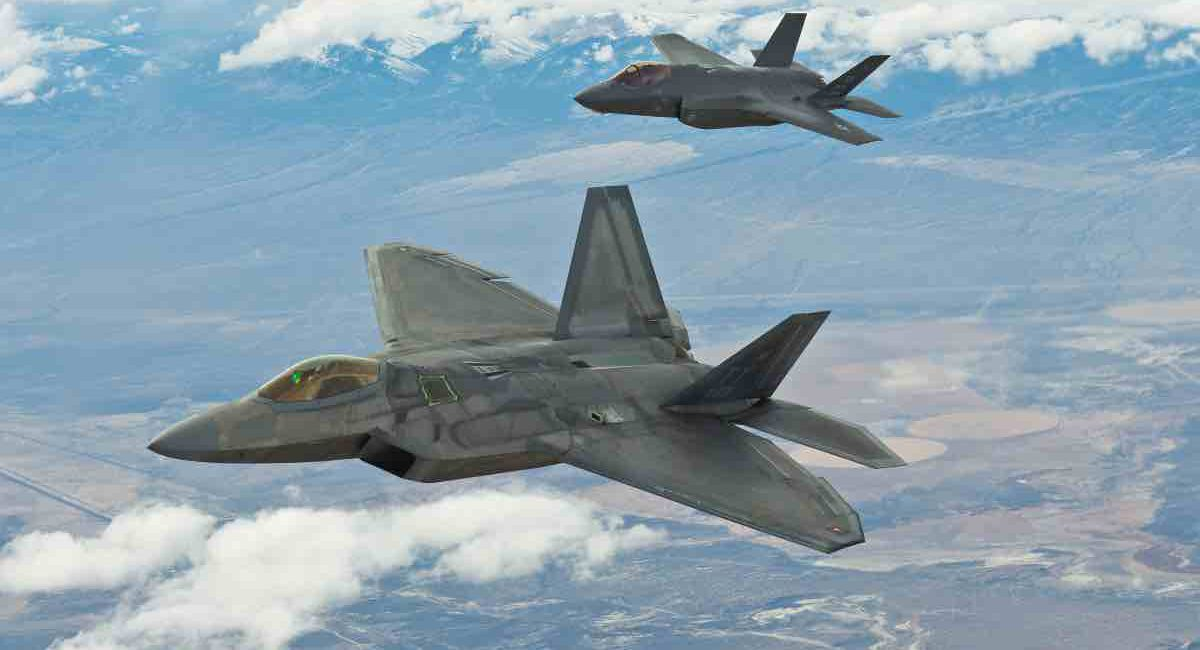F-22 Raptor: (123, 203, 938, 567)
F-35 Lightning: (559, 12, 924, 162)
